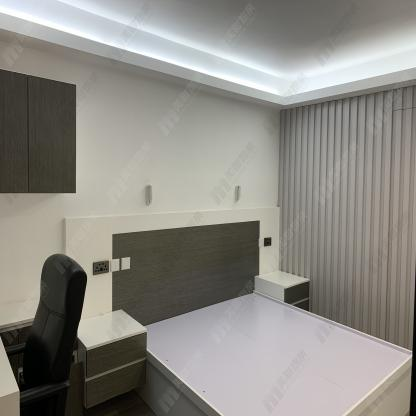Bed Frame: (64, 207, 413, 416)
